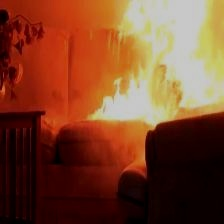fire: (95, 0, 224, 141)
